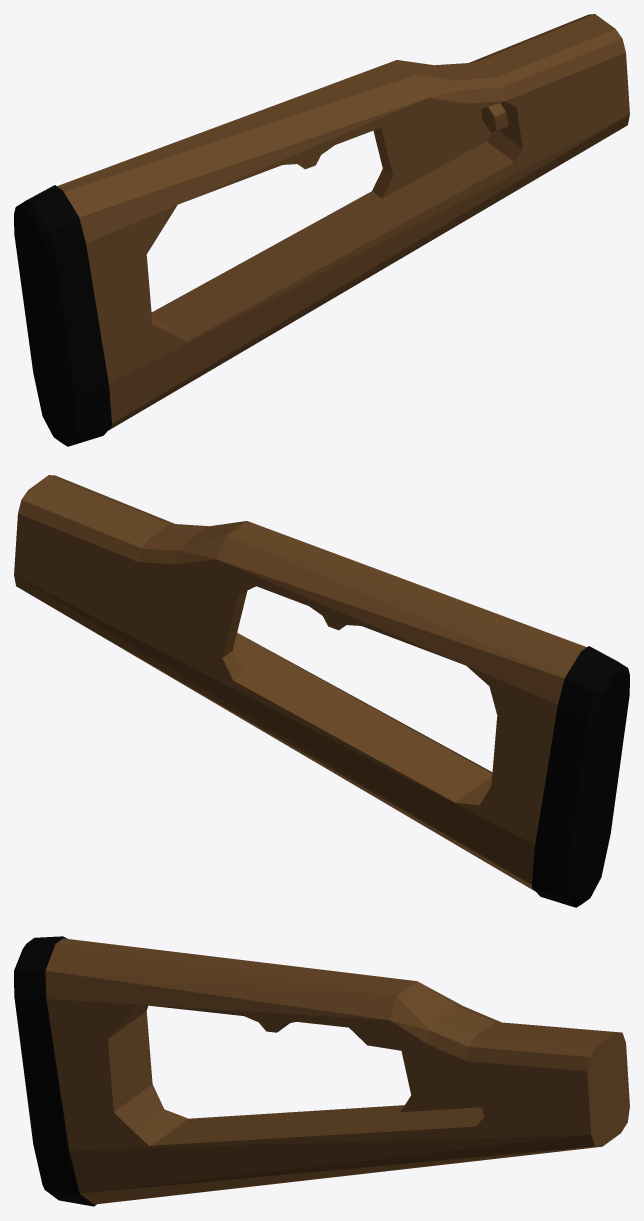
File: tabuk_sniper_rifle_stock.glb
3 views of the same model, one above another, from view 1: azimuth 30°, elevation 25°; view 2: azimuth 150°, elevation 25°; view 3: azimuth 330°, elevation 25° (orthographic).
Parts seen in each view (by area): view 1: tabuksnp stock_15 (×2); view 2: tabuksnp stock_15 (×2); view 3: tabuksnp stock_15 (×2).
Part boxes in pixels (left/top/right/bottom): tabuksnp stock_15 (×2): left=14, top=14, right=629, bottom=446; tabuksnp stock_15 (×2): left=14, top=475, right=629, bottom=907; tabuksnp stock_15 (×2): left=14, top=936, right=629, bottom=1206.
Bounding box in the file's own units: 2.77 × 1.32 × 0.3337.
